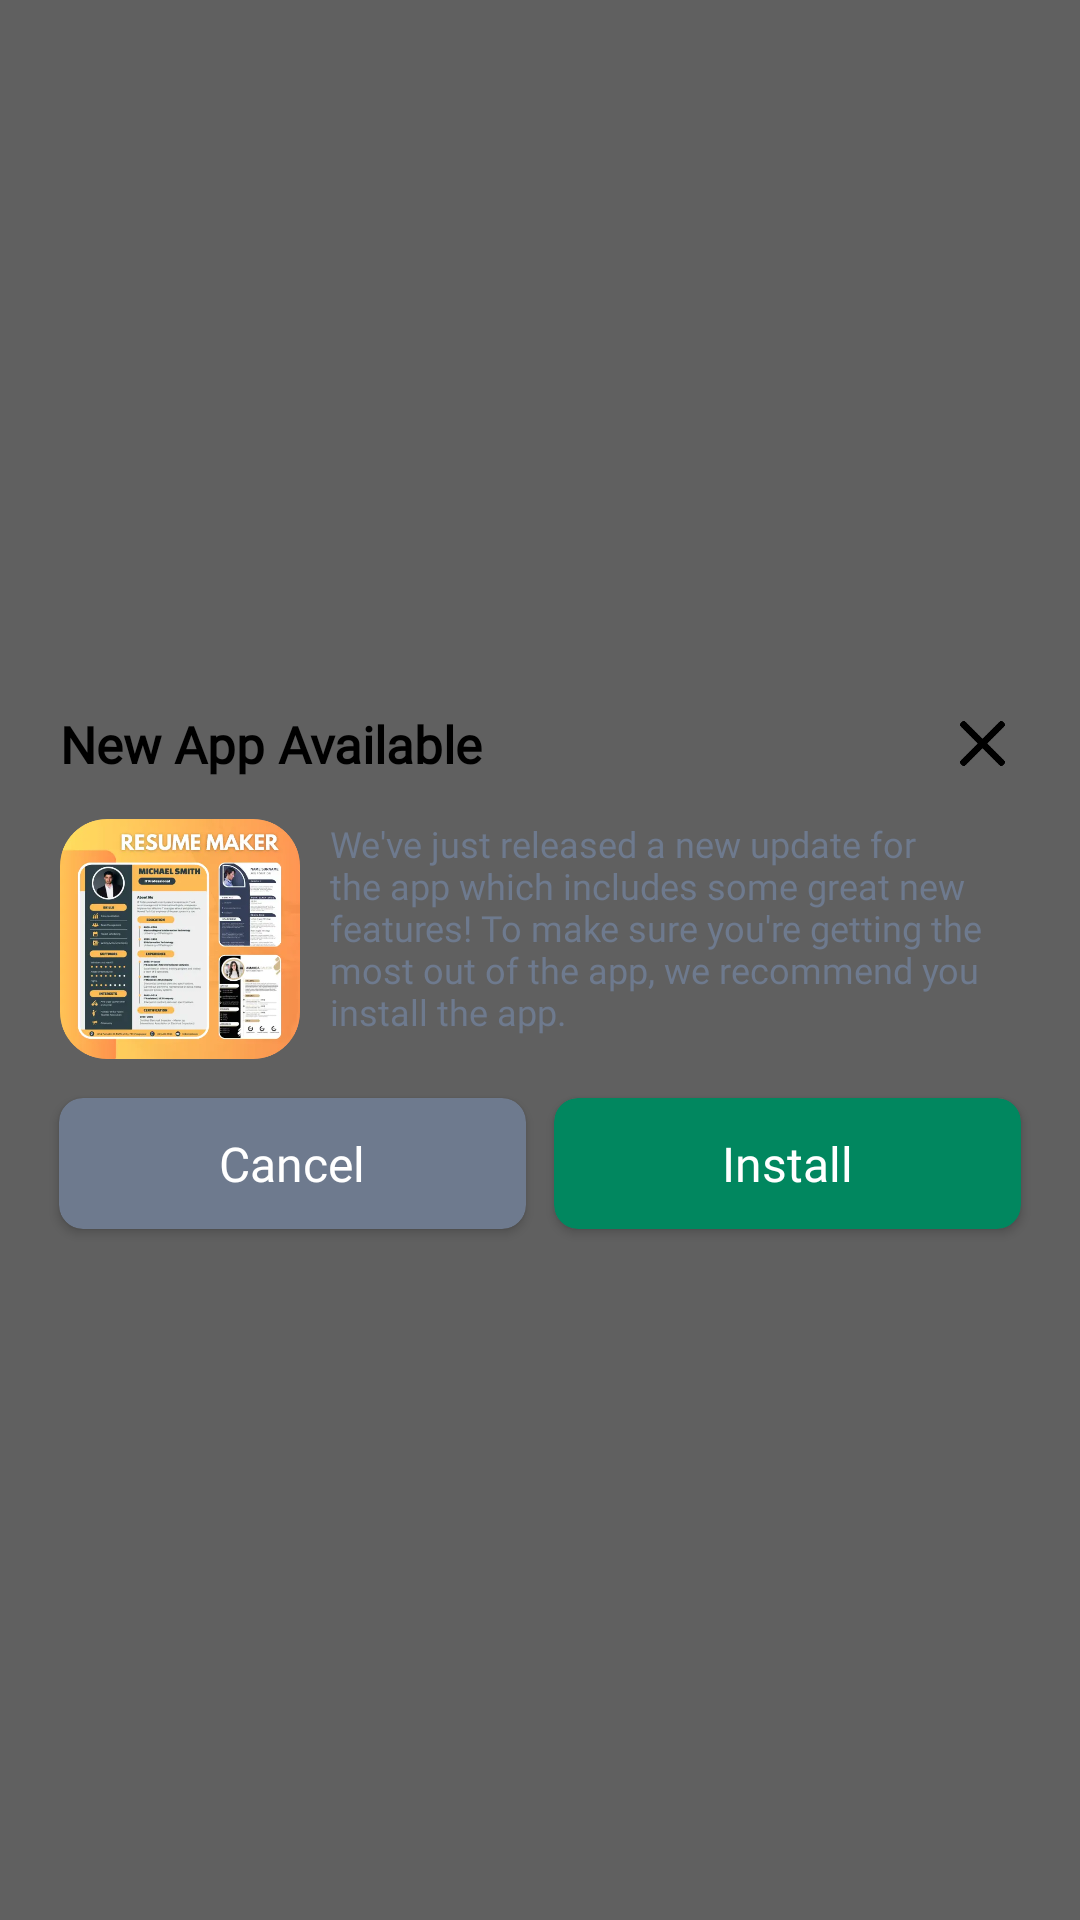

Where to tap for icons on this 1080 x 1920 app screen, as (x=x, y=y):
iclose: (x=982, y=743)
